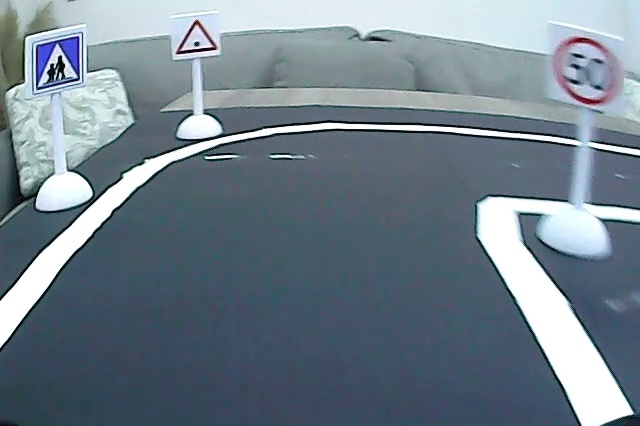green light: (174, 17, 221, 57)
school crossing: (28, 34, 86, 93)
speed limit 50: (550, 34, 625, 110)
